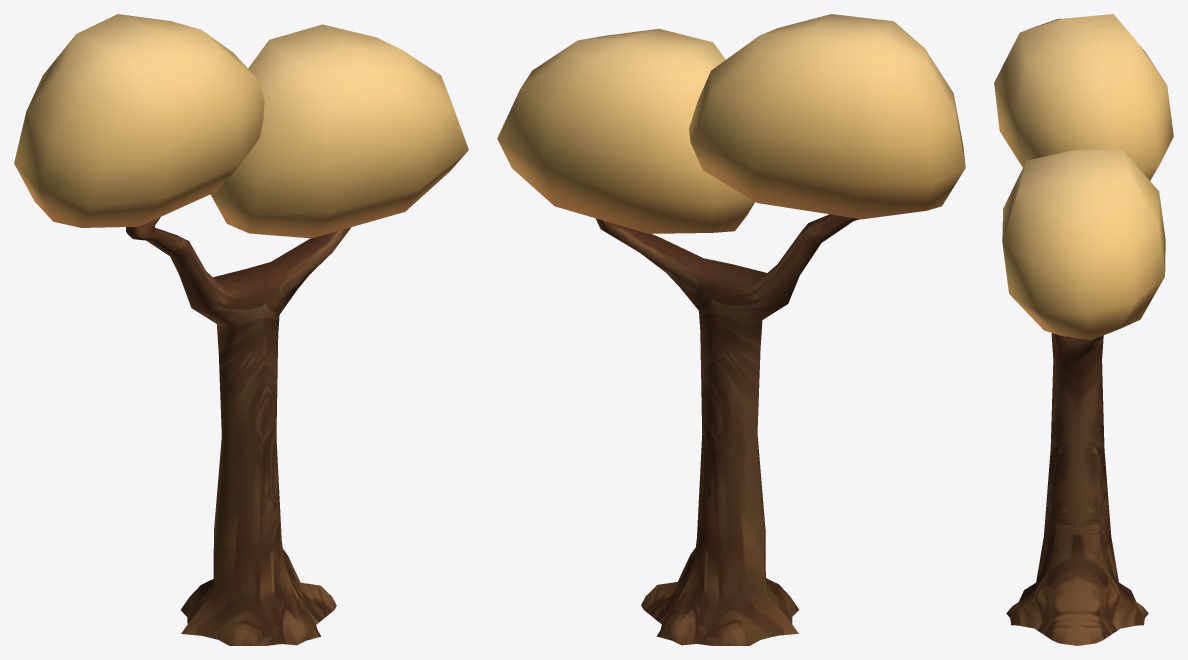
File: DuoTree.FBX
3 views of the same model, side by side, from view 1: azimuth 30°, elevation 25°; view 2: azimuth 150°, elevation 25°; view 3: azimuth 270°, elevation 25° (orthographic). The views are drawn at different scales.
Visible parts, largest first — view 1: DuoTree; view 2: DuoTree; view 3: DuoTree.
Part boxes in pixels (left/top/right/bottom): DuoTree: left=14, top=14, right=468, bottom=645; DuoTree: left=497, top=14, right=965, bottom=645; DuoTree: left=994, top=14, right=1173, bottom=645.
Size of the model in its own units: 82.7 by 110 by 33.8.
